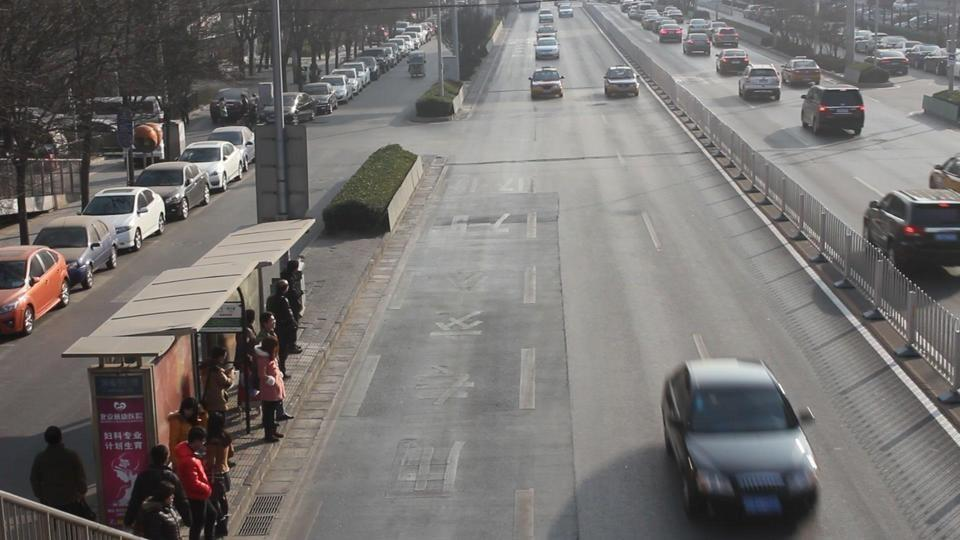car: (660, 357, 821, 525), (862, 187, 960, 272), (0, 244, 70, 339), (32, 218, 118, 289), (78, 186, 166, 253), (134, 162, 211, 222), (800, 83, 867, 137), (178, 141, 242, 193), (208, 125, 256, 174), (209, 87, 256, 127), (262, 93, 317, 126), (739, 65, 782, 103), (928, 154, 960, 195), (299, 83, 337, 115), (320, 72, 358, 104), (329, 65, 368, 96), (603, 65, 639, 98), (782, 56, 821, 86), (529, 68, 565, 100), (716, 48, 752, 76), (711, 25, 741, 49), (682, 32, 712, 56), (534, 35, 560, 62), (657, 22, 685, 43), (538, 9, 556, 28), (558, 3, 573, 18)
